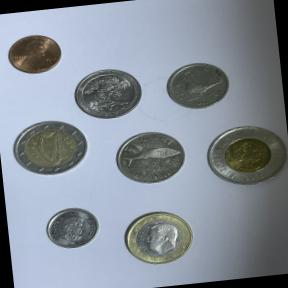1 Euro-B: (114, 200, 207, 274)
2 Euro-B: (4, 116, 94, 184)
Canada-10cent-B: (39, 200, 107, 256)
Canada-2Dollar-B: (196, 114, 288, 197)
Croatia-2Kune-B: (106, 120, 197, 194)
US-1cent-B: (0, 24, 74, 85)
US-25cent-B: (70, 60, 152, 124)
